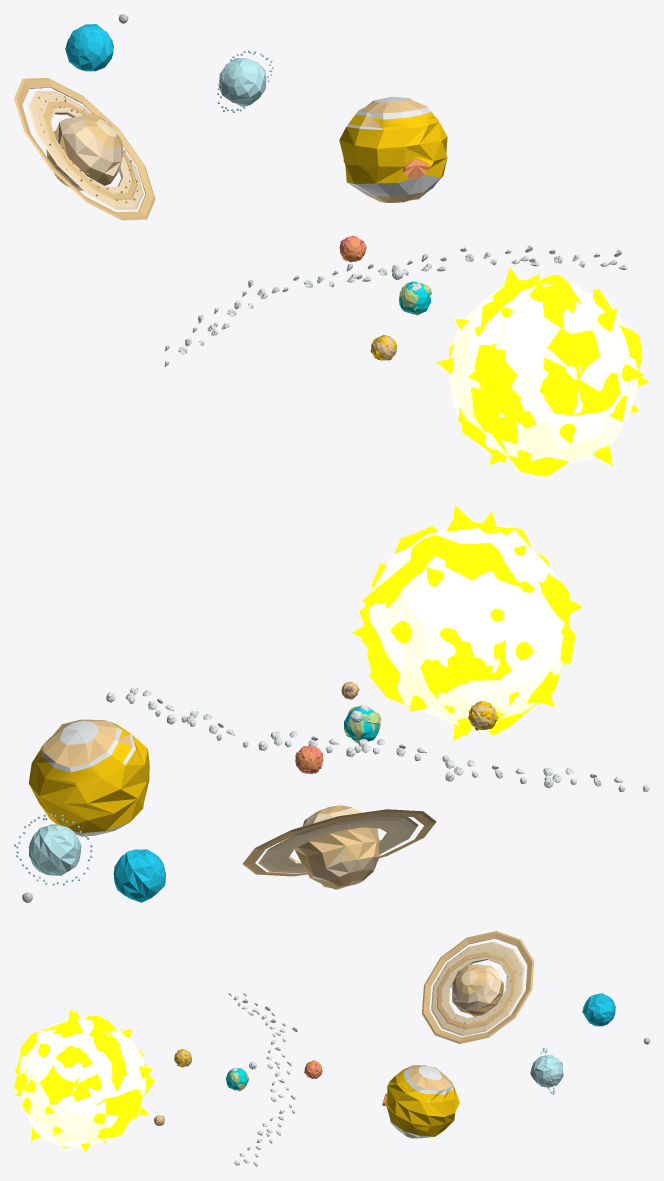
File: space.gltf
3 renders of one model, top to bottom at view 1: azimuth 30°, elevation 25°; view 2: azimuth 150°, elevation 25°; view 3: azimuth 270°, elevation 25°, orthographic. The views are drawn at different scales.
Visible parts, largest first — view 1: model; view 2: model; view 3: model.
Boxes of the visible parts, x1=… form: model: x1=14, y1=14, x2=649, y2=476; model: x1=14, y1=505, x2=649, y2=902; model: x1=14, y1=931, x2=649, y2=1166.
Size of the model in its own units: 51.86 by 20.96 by 87.52.
